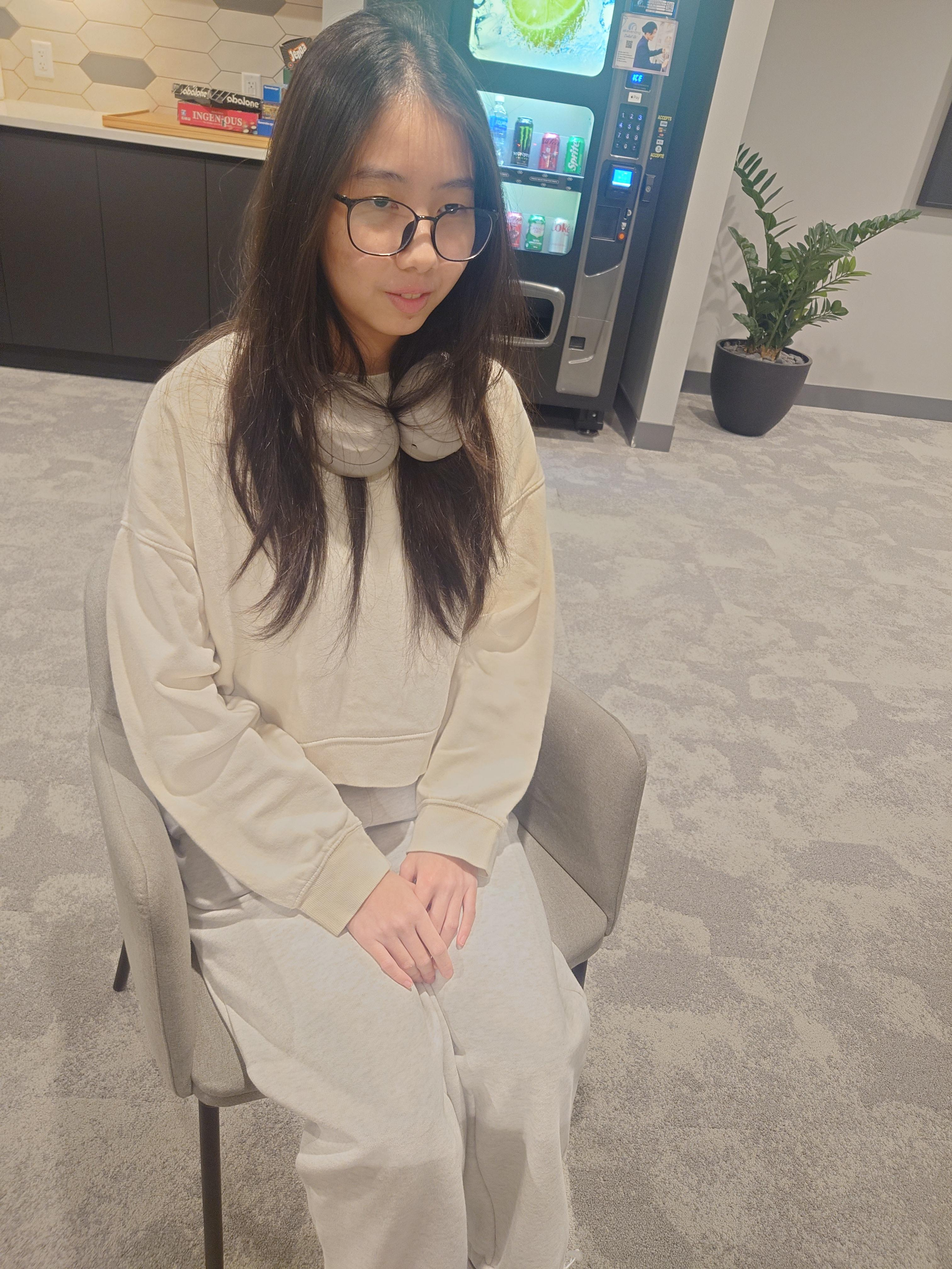GoodPosture: (106, 5, 590, 1269)
